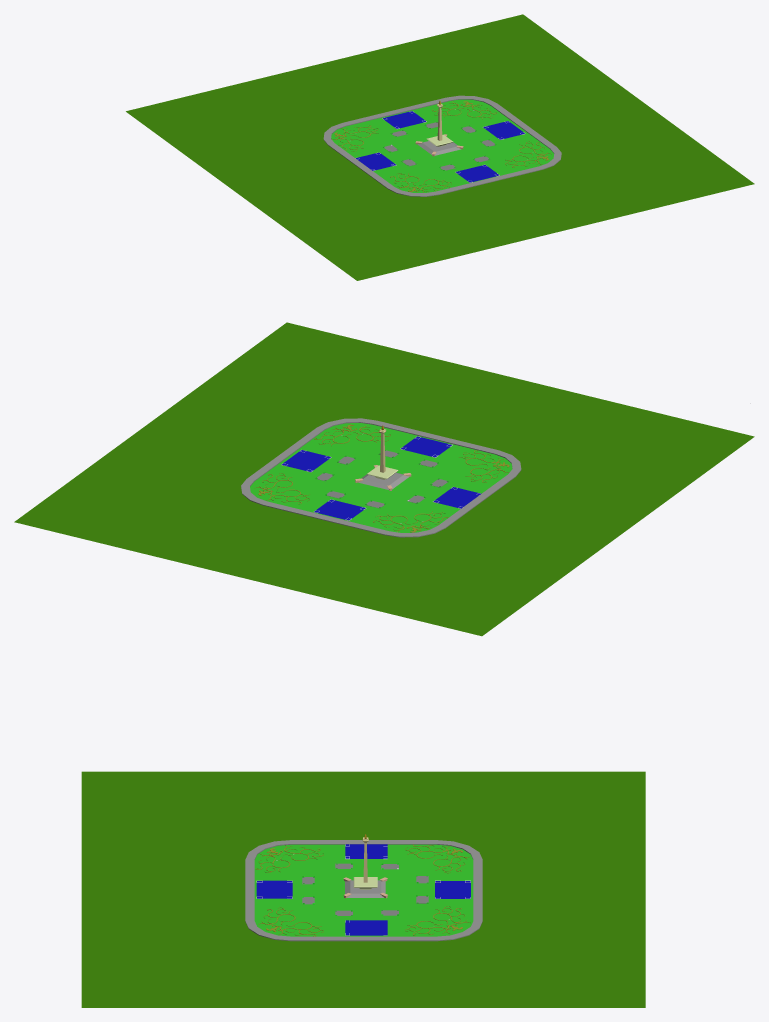
File: monasext3.obj
The picture shows the model from 3 angles, top to bottom: view 1: azimuth 30°, elevation 25°; view 2: azimuth 150°, elevation 25°; view 3: azimuth 270°, elevation 25°; orthographic projection. The views are drawn at different scales.
Visible parts, largest first — view 1: Plane001, Obj_000114, Obj_000149; view 2: Plane001, Obj_000114, Obj_000149, Obj_000104, Obj_000109, Obj_000099; view 3: Plane001, Obj_000114, Obj_000149, Obj_000099, Obj_000109, Obj_000104, Obj_000096.
Boxes of the visible parts, x1,y1,x2,y2 form: Plane001: [126, 14, 754, 280]; Obj_000114: [331, 99, 553, 192]; Obj_000149: [323, 95, 561, 196]; Plane001: [14, 322, 754, 636]; Obj_000114: [250, 423, 512, 532]; Obj_000149: [241, 418, 521, 537]; Obj_000104: [314, 499, 365, 520]; Obj_000109: [401, 436, 451, 457]; Obj_000099: [282, 450, 330, 471]; Plane001: [81, 771, 645, 1007]; Obj_000114: [254, 844, 473, 936]; Obj_000149: [245, 840, 482, 941]; Obj_000099: [345, 920, 387, 935]; Obj_000109: [256, 880, 292, 898]; Obj_000104: [435, 881, 470, 898]; Obj_000096: [345, 844, 387, 858].
Size of the model in its own units: 375 by 33.82 by 402.
